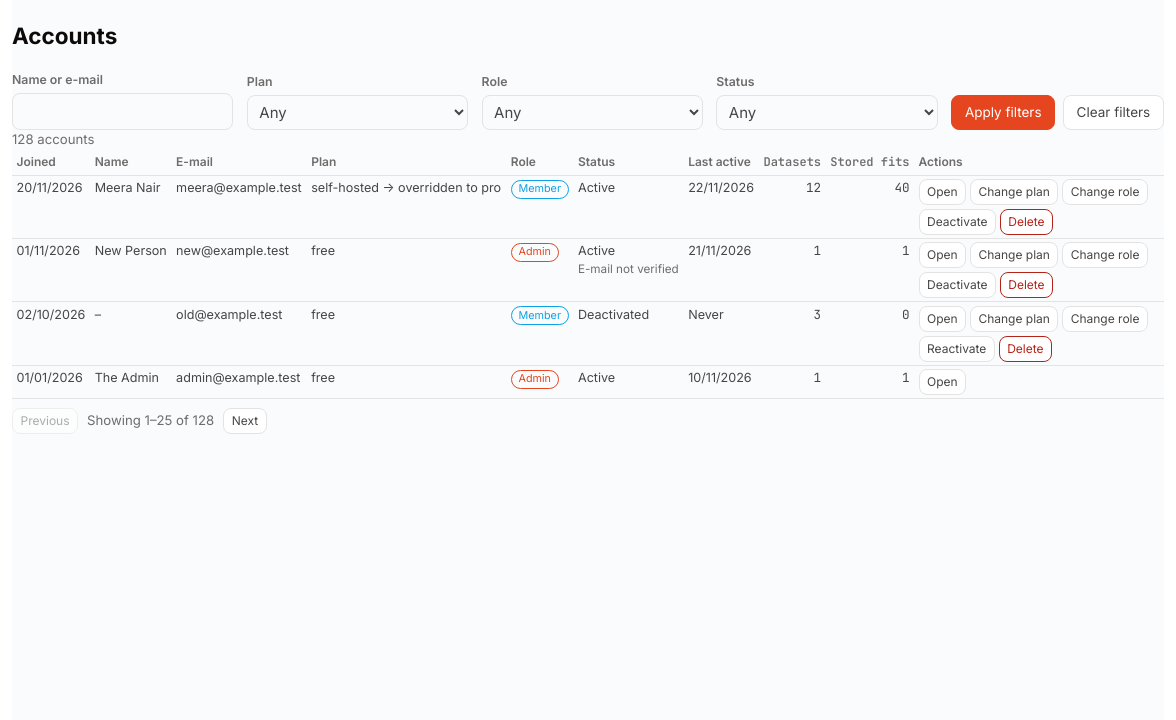
Test case: UsersPage — one account's detail › says on the administrator's own account that its role and active flag cannot be changed here
expect the table named "Accounts" is shown: met, box top-left (12, 150), bottom-right (1164, 399)
What coordinates should you click on to do the following:
click the button with aria-label "Open admin@example.test"
I would click on:
 (942, 382)
Its box is top-left (918, 369), bottom-right (966, 395).
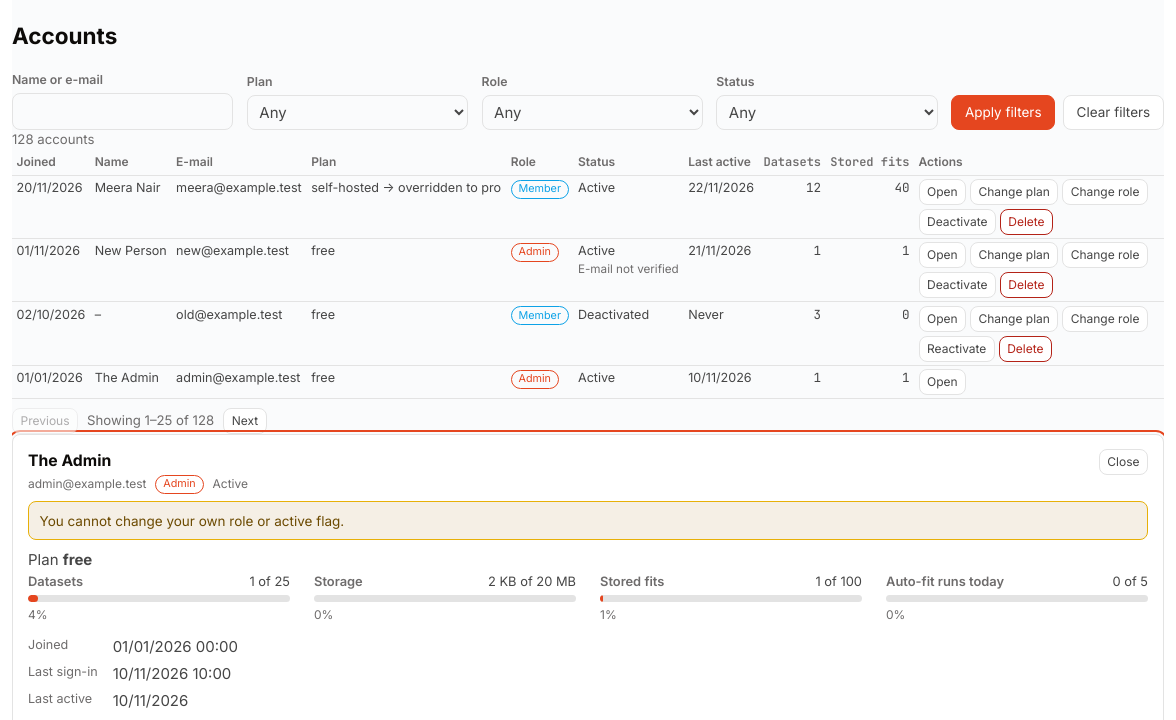
expect the text "You cannot change your own role or active flag." is shown: met, box top-left (28, 501), bottom-right (1148, 540)
